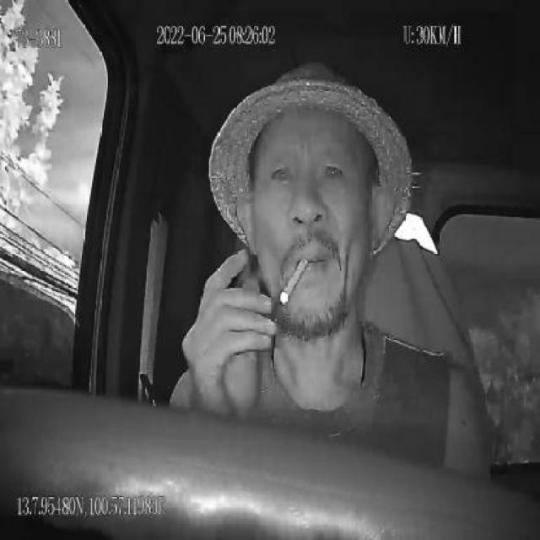smoking: (279, 256, 310, 308)
